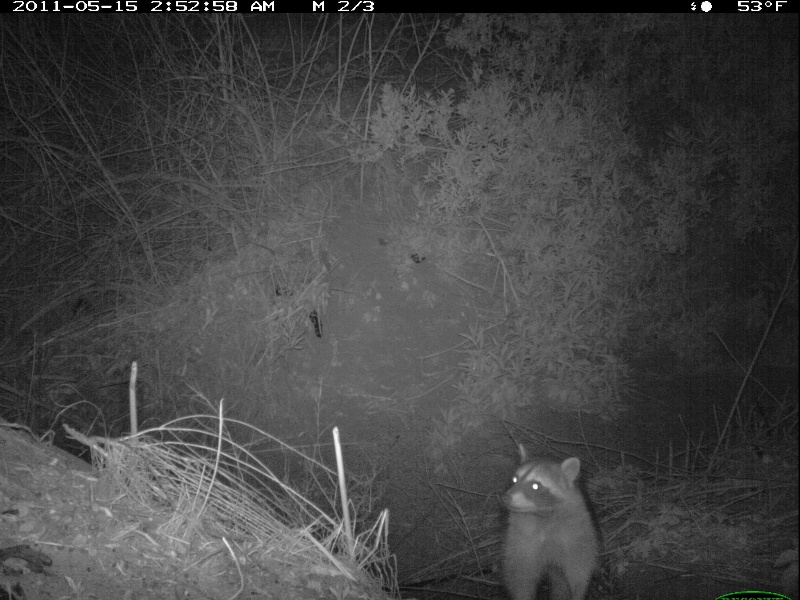raccoon: (495, 439, 604, 600)
